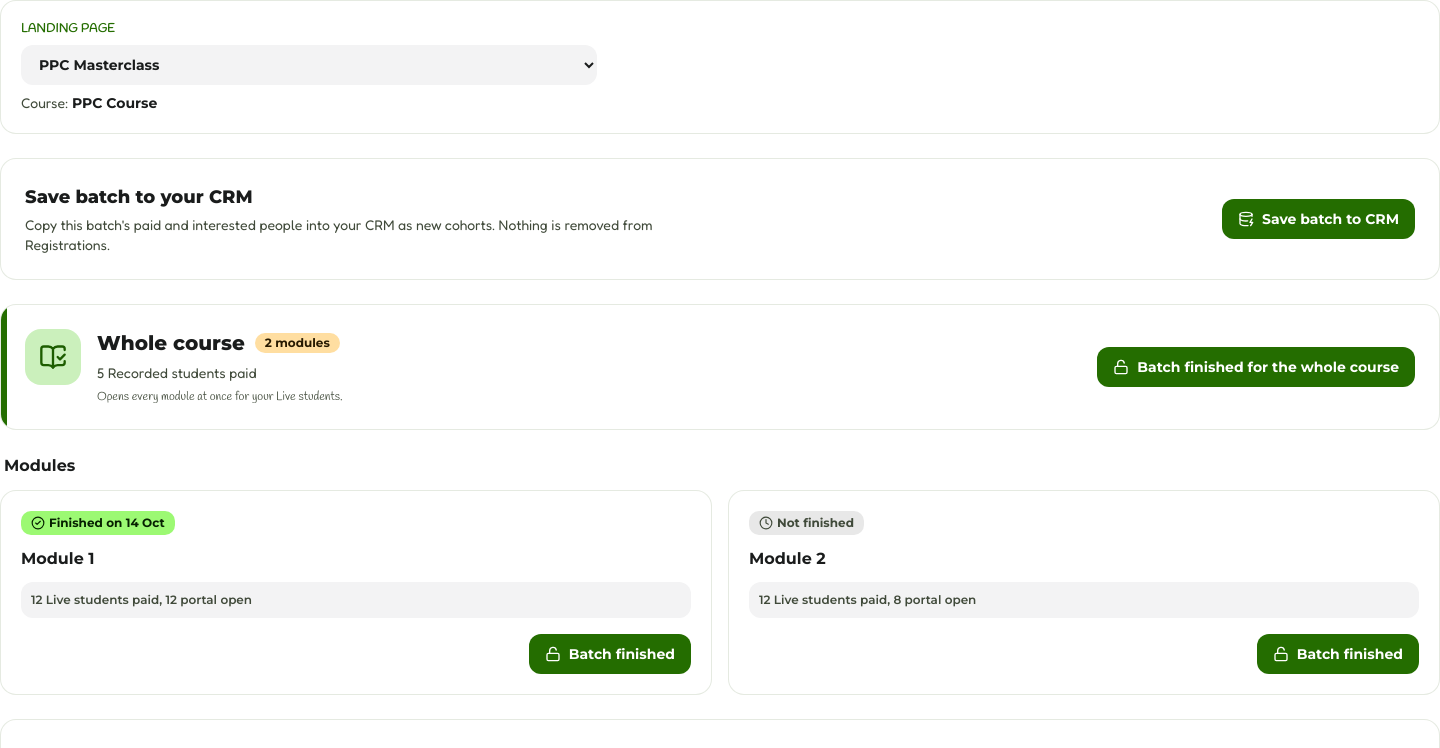
BatchAccessPanel › fully opened finished module: button still enabled, confirm text explains
Expected: the heading "Module 2" is shown, x1=749 y1=549 x2=826 y2=568
What coordinates should you click on to do the following:
click the 1st button "Batch finished"
I would click on:
 (610, 654)
Its box is x1=529 y1=634 x2=691 y2=674.
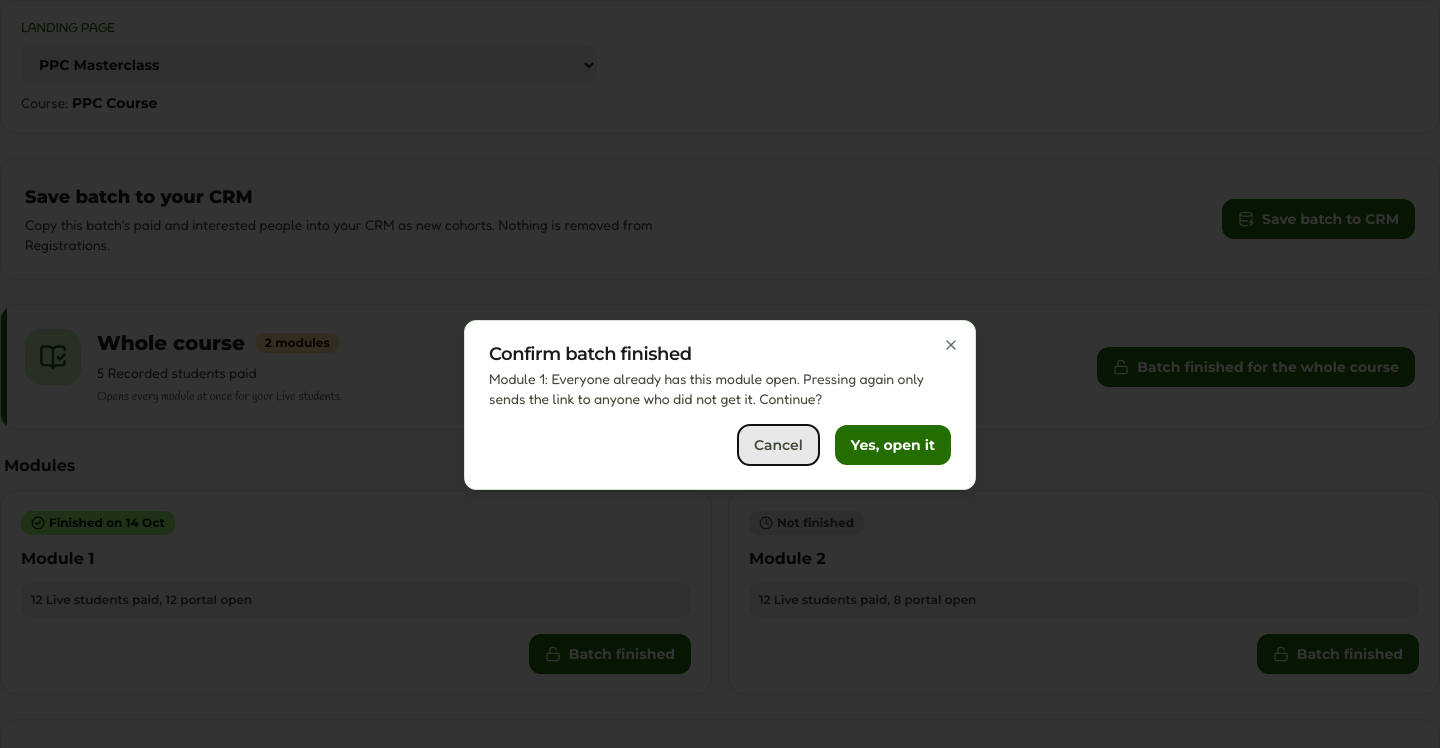
Expected: the text "Module 1: Everyone already has this module open. Pressing again only sends the link to anyone who did not get it." is shown, x1=489 y1=370 x2=924 y2=407
